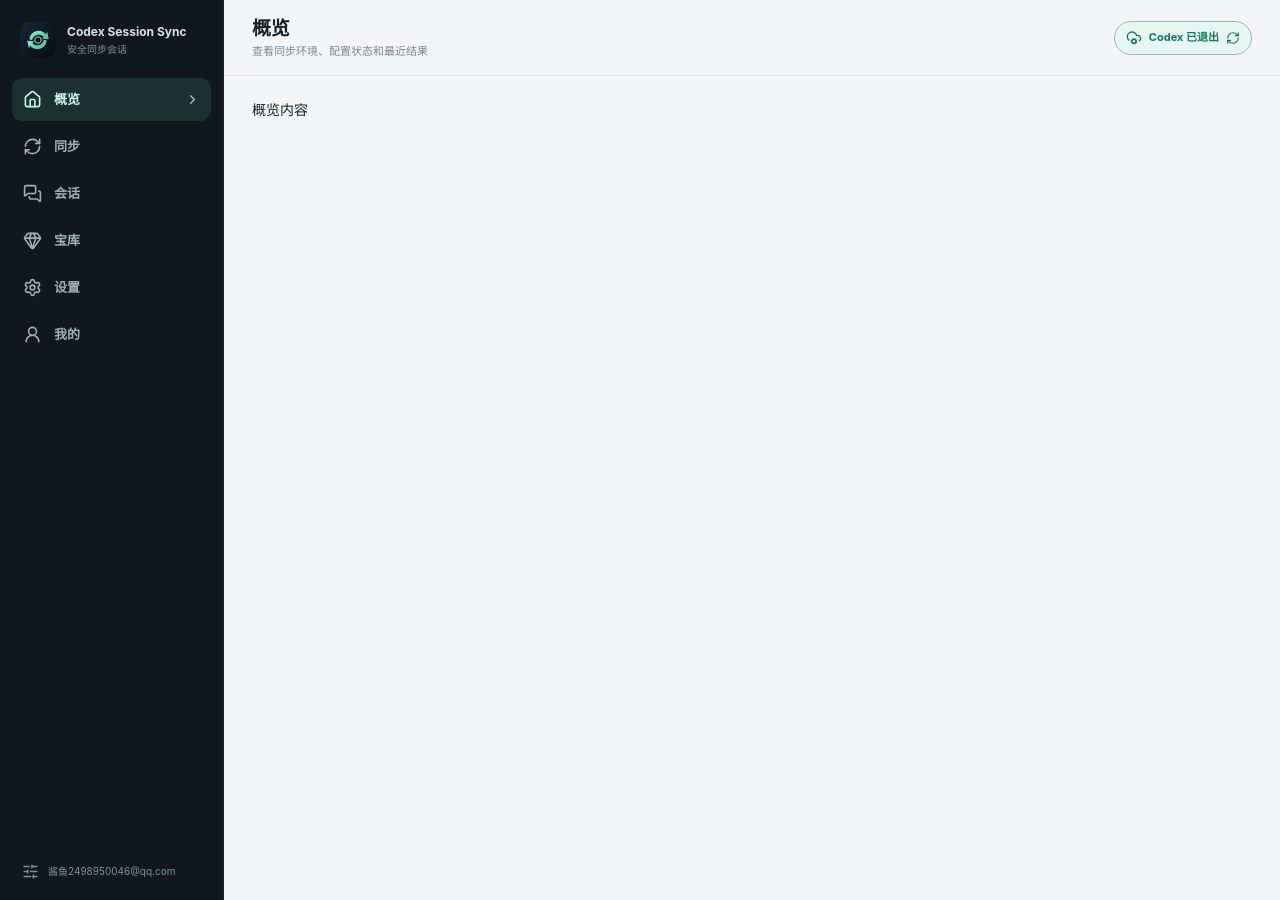
Test: top-level navigation is minimal: overview, sync, sessions, settings only
expect the link "概览" is shown: met, box top-left (12, 78), bottom-right (211, 121)
expect the link "同步" is shown: met, box top-left (23, 137), bottom-right (80, 156)
Click the link "设置": coordinates (52, 288) top-left (23, 278), bottom-right (80, 297)
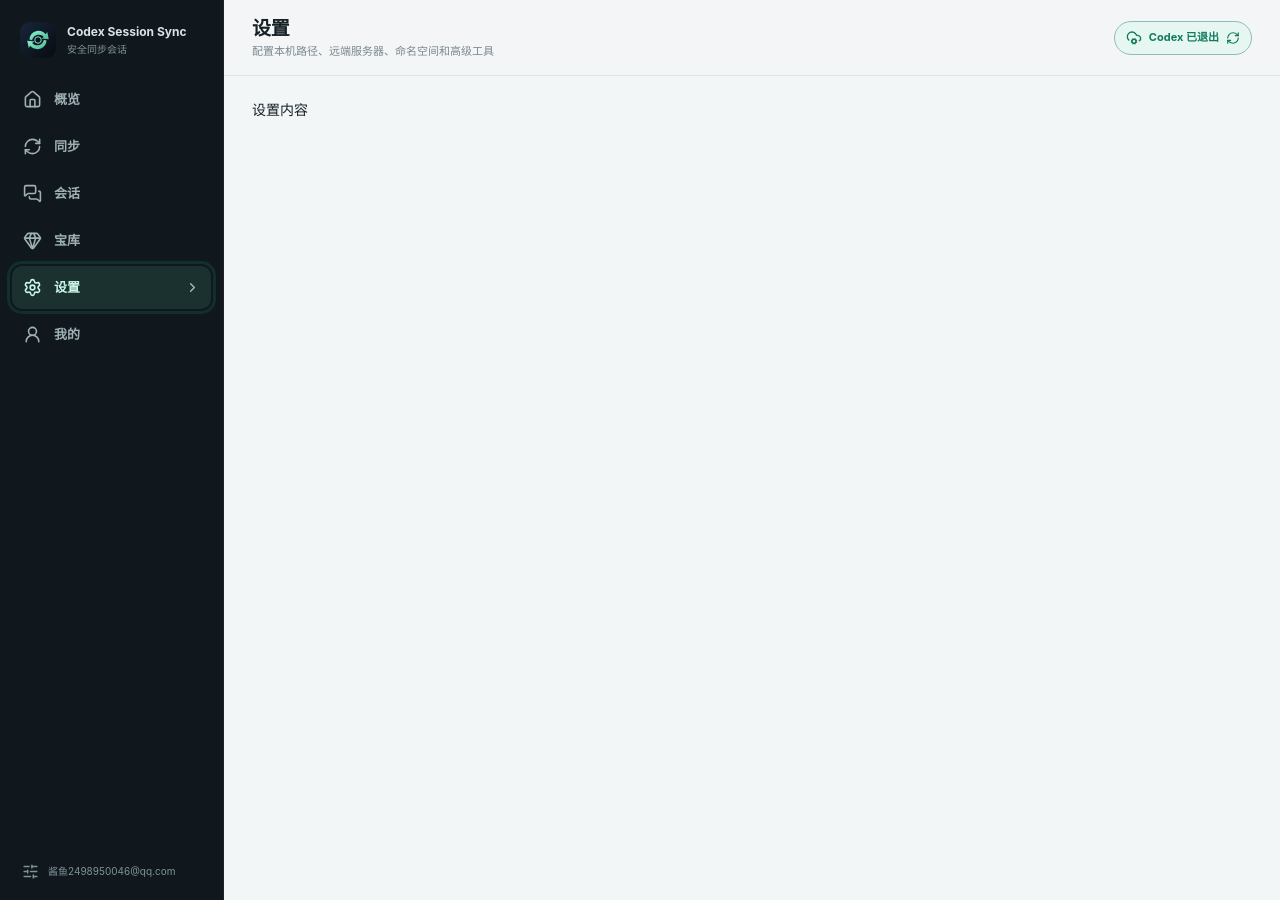
expect the heading "设置" is shown: met, box top-left (252, 17), bottom-right (289, 40)
expect the text "设置内容" is shown: met, box top-left (252, 101), bottom-right (308, 118)
